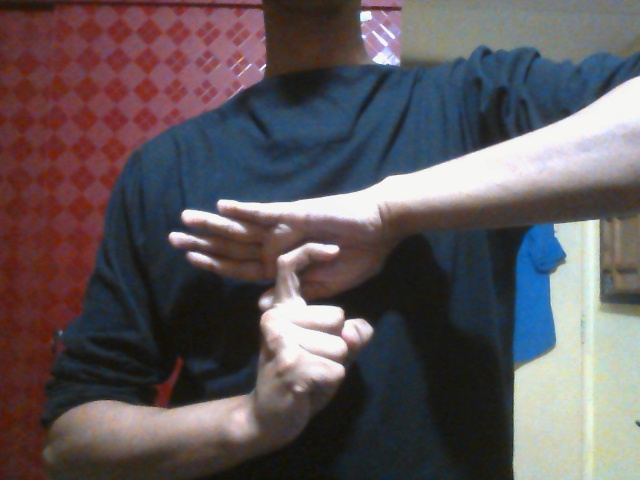R: (165, 190, 404, 441)
